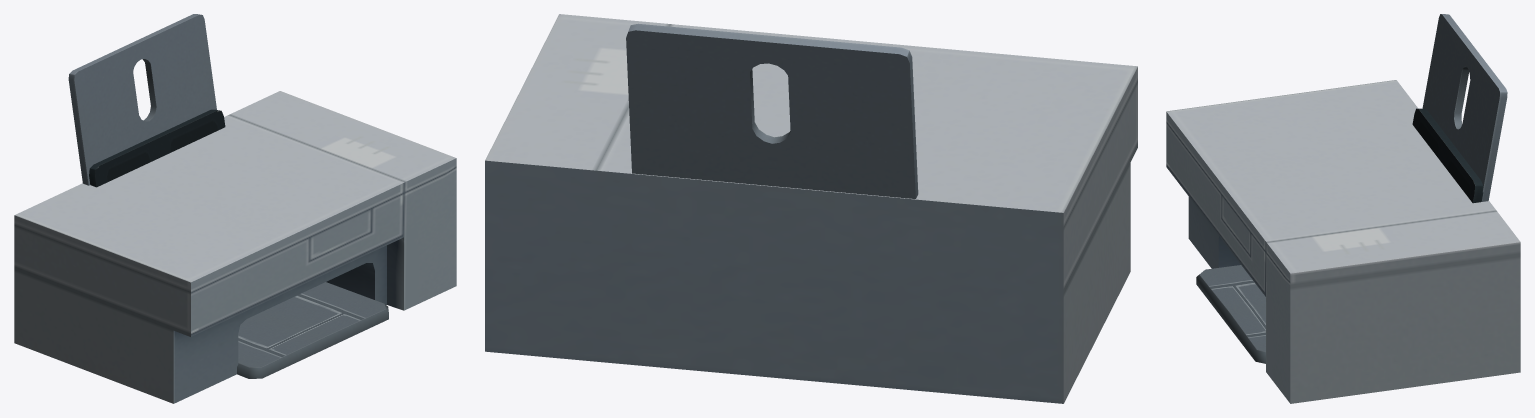
File: TuShuGuan_01_dayinji_01.FBX
3 views of the same model, side by side, from view 1: azimuth 30°, elevation 25°; view 2: azimuth 150°, elevation 25°; view 3: azimuth 270°, elevation 25° (orthographic). The views are drawn at different scales.
Visible parts, largest first — view 1: TuShuGuan_01_dayinji_01; view 2: TuShuGuan_01_dayinji_01; view 3: TuShuGuan_01_dayinji_01.
Part boxes in pixels (box(x1,y1,x2,y2)): TuShuGuan_01_dayinji_01: box(14, 14, 456, 403); TuShuGuan_01_dayinji_01: box(485, 14, 1137, 403); TuShuGuan_01_dayinji_01: box(1166, 14, 1520, 403).
Size of the model in its own units: 282 by 162 by 218.
